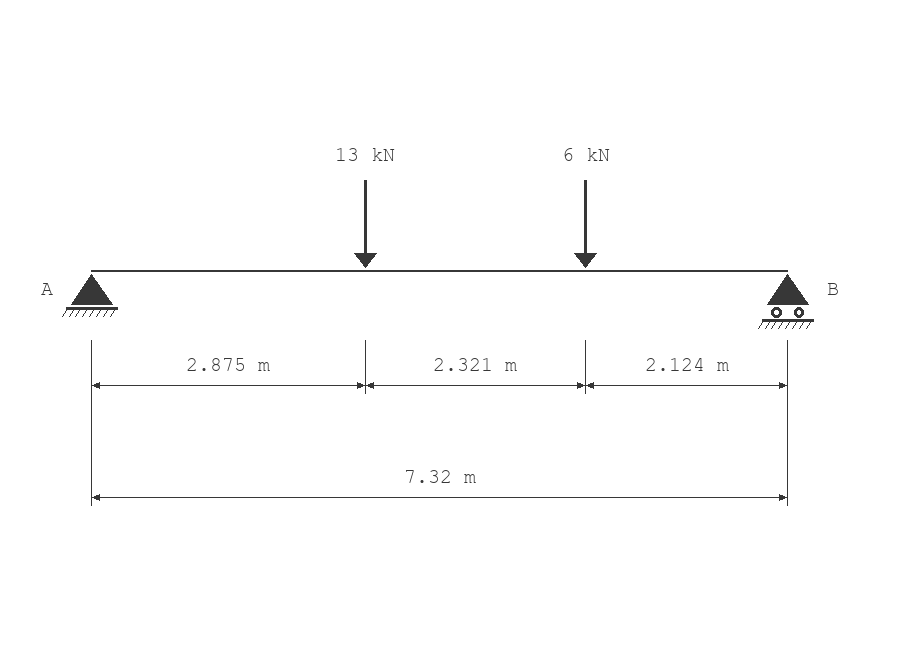pin_support: (62, 274, 118, 317)
point_load: (354, 180, 377, 268), (574, 180, 597, 268)
roller_support: (758, 274, 814, 329)
